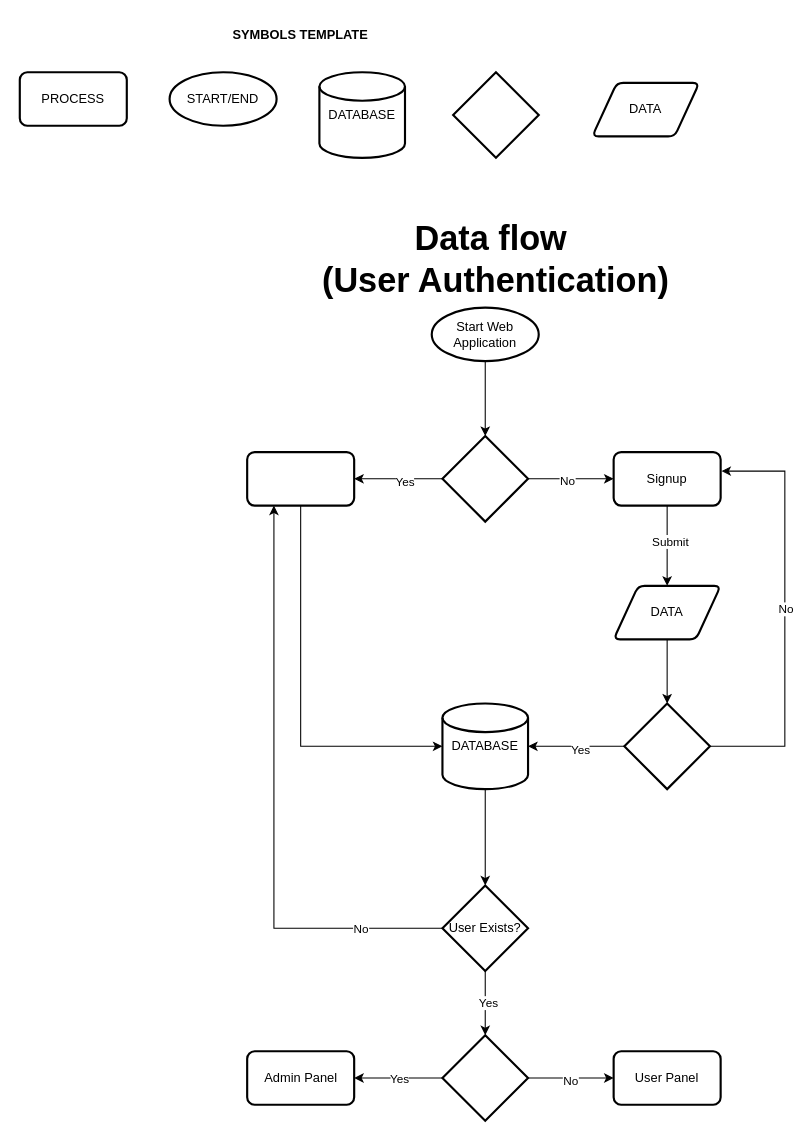
Image size: 812x1140. Some labels were removed from this diagram. The centre of each missing label's shape, as x and y in pixels:
Account?: [485,478]
DECISION: [495,114]
Is admin?: [485,1077]
Login: [300,478]
Valid?: [666,746]
